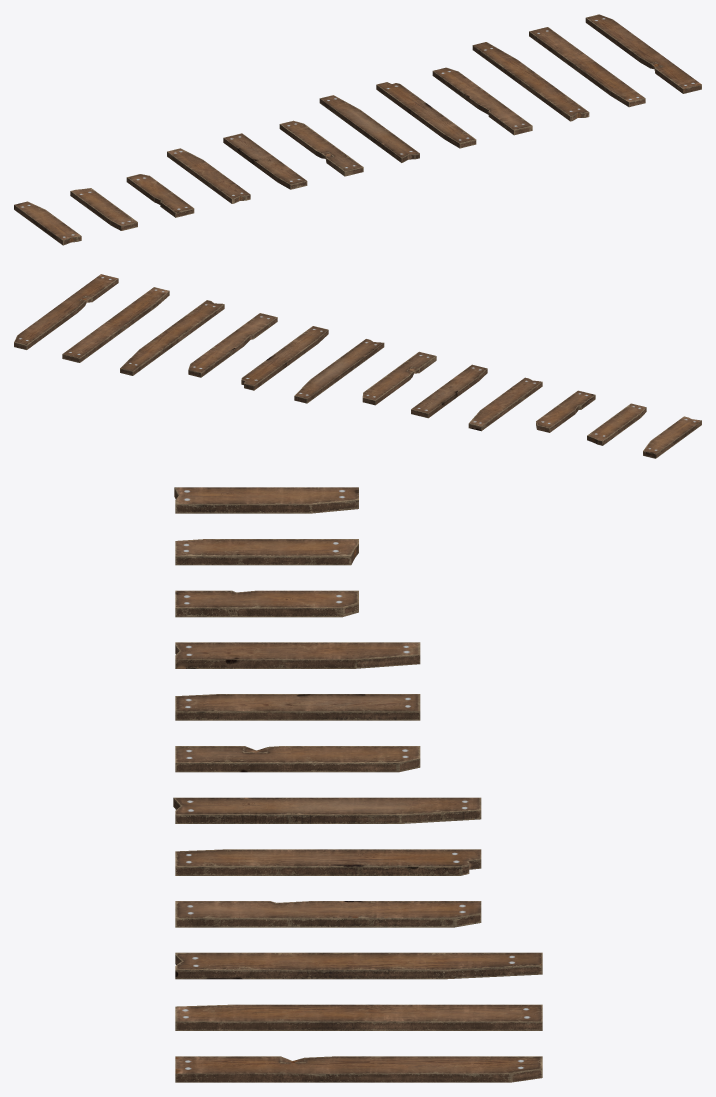
File: Low Poly Wood Planks_Complete.fbx
3 views of the same model, one above another, from view 1: azimuth 30°, elevation 25°; view 2: azimuth 150°, elevation 25°; view 3: azimuth 270°, elevation 25° (orthographic). The views are drawn at different scales.
Parts seen in each view (by area): view 1: Wood Planks; view 2: Wood Planks; view 3: Wood Planks.
Boxes of the visible parts, bbox=[...] form: Wood Planks: bbox=[14, 14, 701, 245]; Wood Planks: bbox=[14, 274, 701, 458]; Wood Planks: bbox=[173, 487, 542, 1082].
Bounding box in the file's own units: 204 × 54.28 × 1.5.
1 material, 1 textured.
